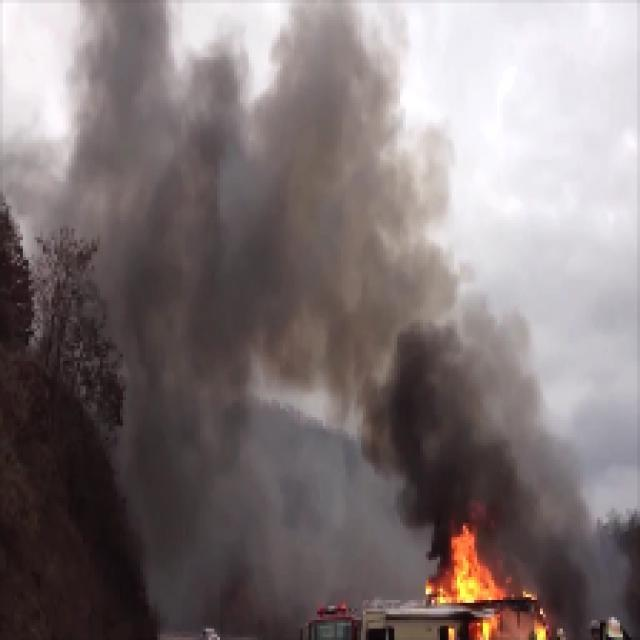Fire: (440, 517, 490, 606)
Smoke: (55, 95, 425, 343), (395, 364, 516, 505)
